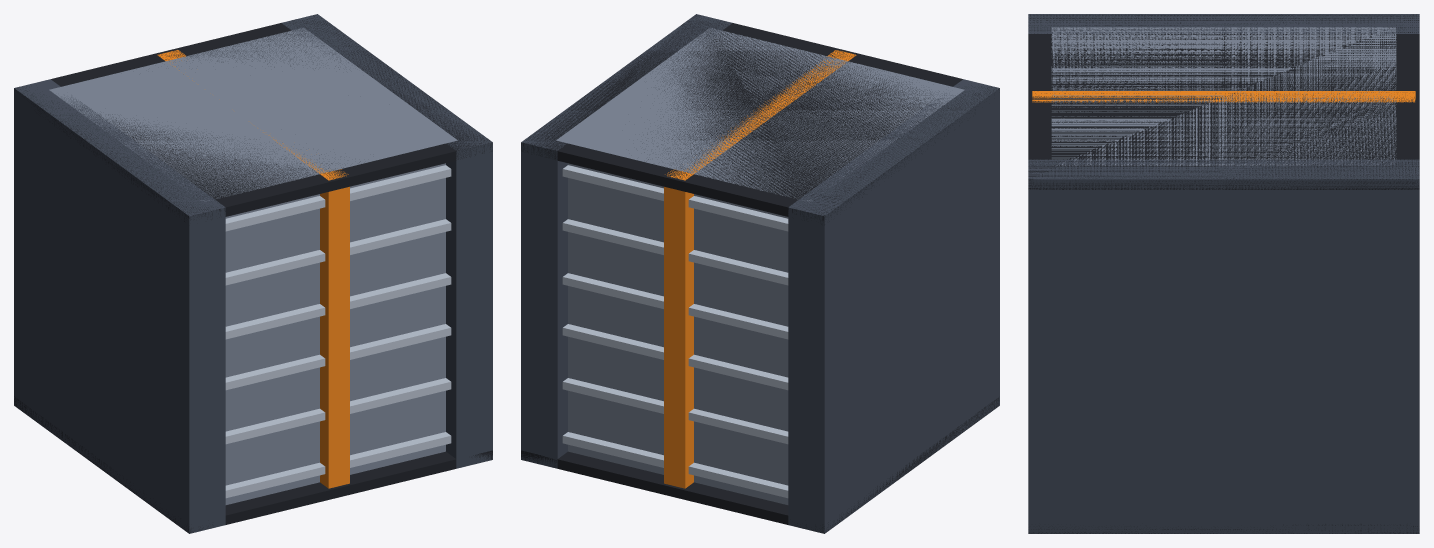
File: gimmick_door.obj
3 views of the same model, side by side, from view 1: azimuth 30°, elevation 25°; view 2: azimuth 150°, elevation 25°; view 3: azimuth 270°, elevation 25° (orthographic). The views are drawn at different scales.
Parts seen in each view (by area): view 1: gimmick_door; view 2: gimmick_door; view 3: gimmick_door.
Part boxes in pixels (x1,y1,x2,y2): gimmick_door: (14,14,492,533); gimmick_door: (521,14,999,533); gimmick_door: (1028,14,1419,533).
Bounding box in the file's own units: 1 × 1 × 1.
